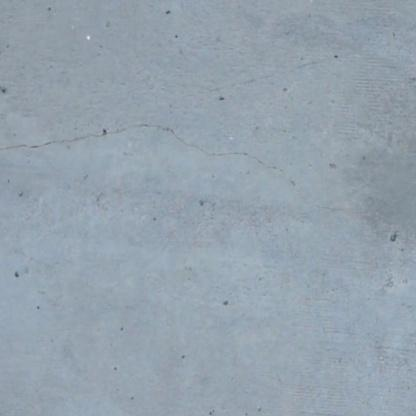Cracks: (0, 116, 365, 221)
